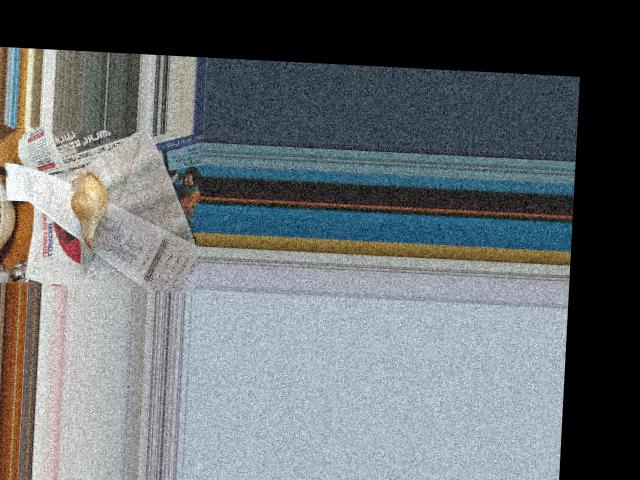onion: (67, 173, 111, 236)
